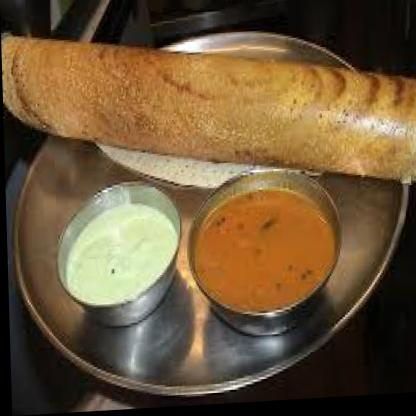dosa: (1, 18, 416, 209)
